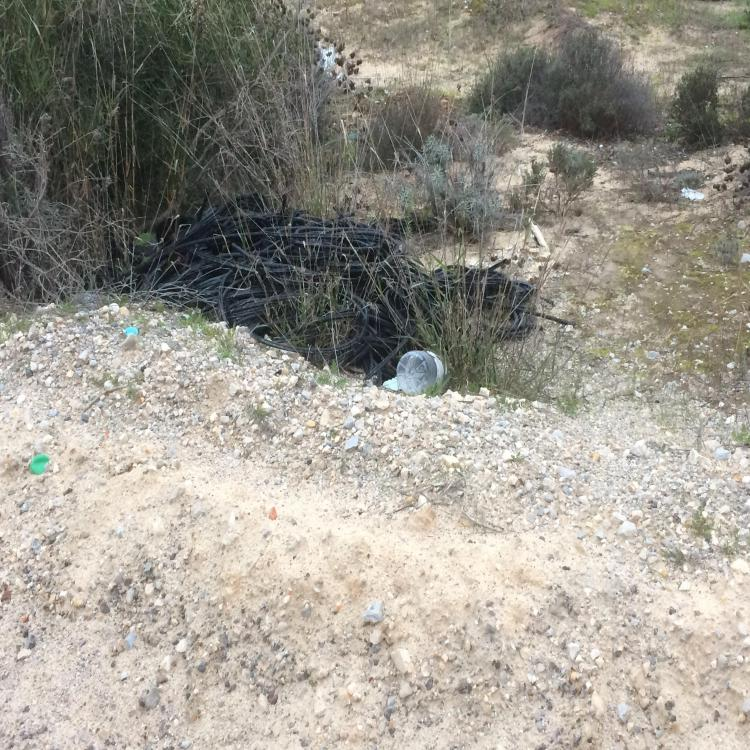Clear plastic bottle: (397, 351, 448, 396)
Plastic bottle cap: (30, 454, 50, 474), (124, 327, 138, 336)
Unlabeled litter: (383, 376, 400, 391)
